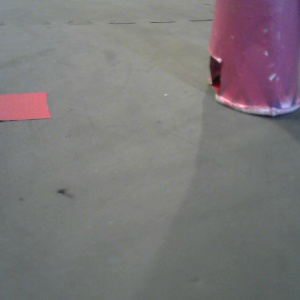right: (208, 1, 300, 115)
